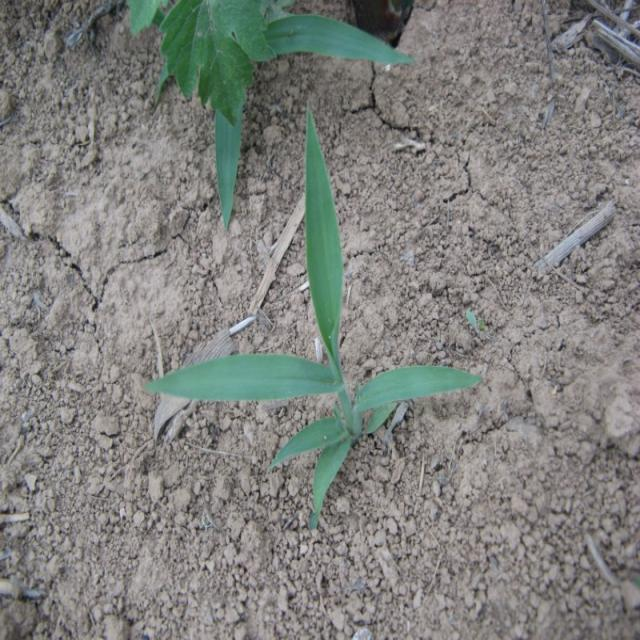bg: (144, 117, 494, 530)
